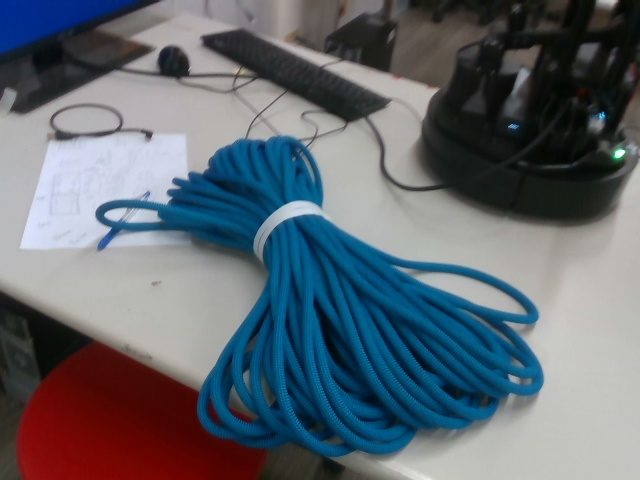rope: (91, 132, 551, 461)
